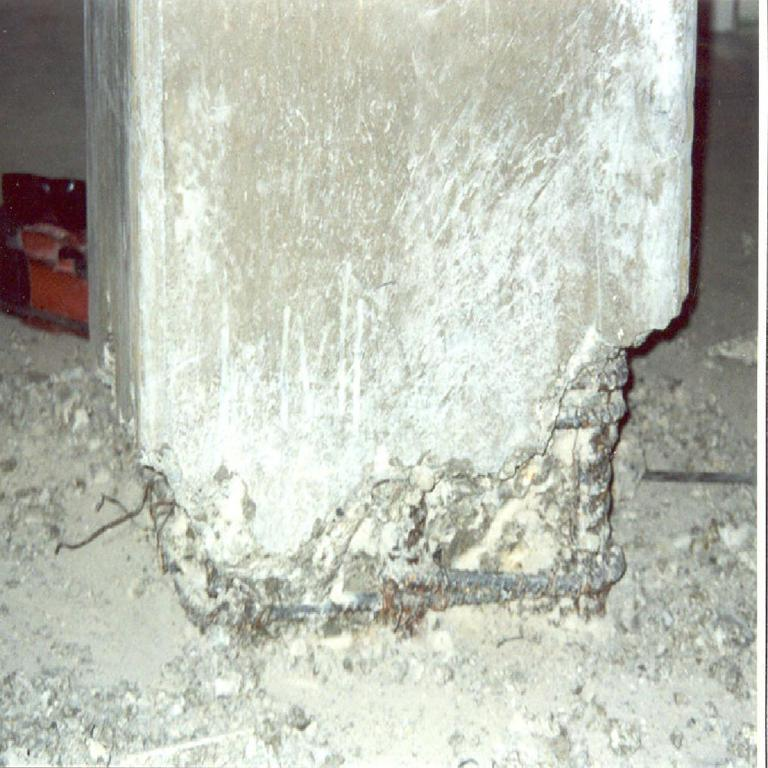spalling: (147, 350, 628, 632)
